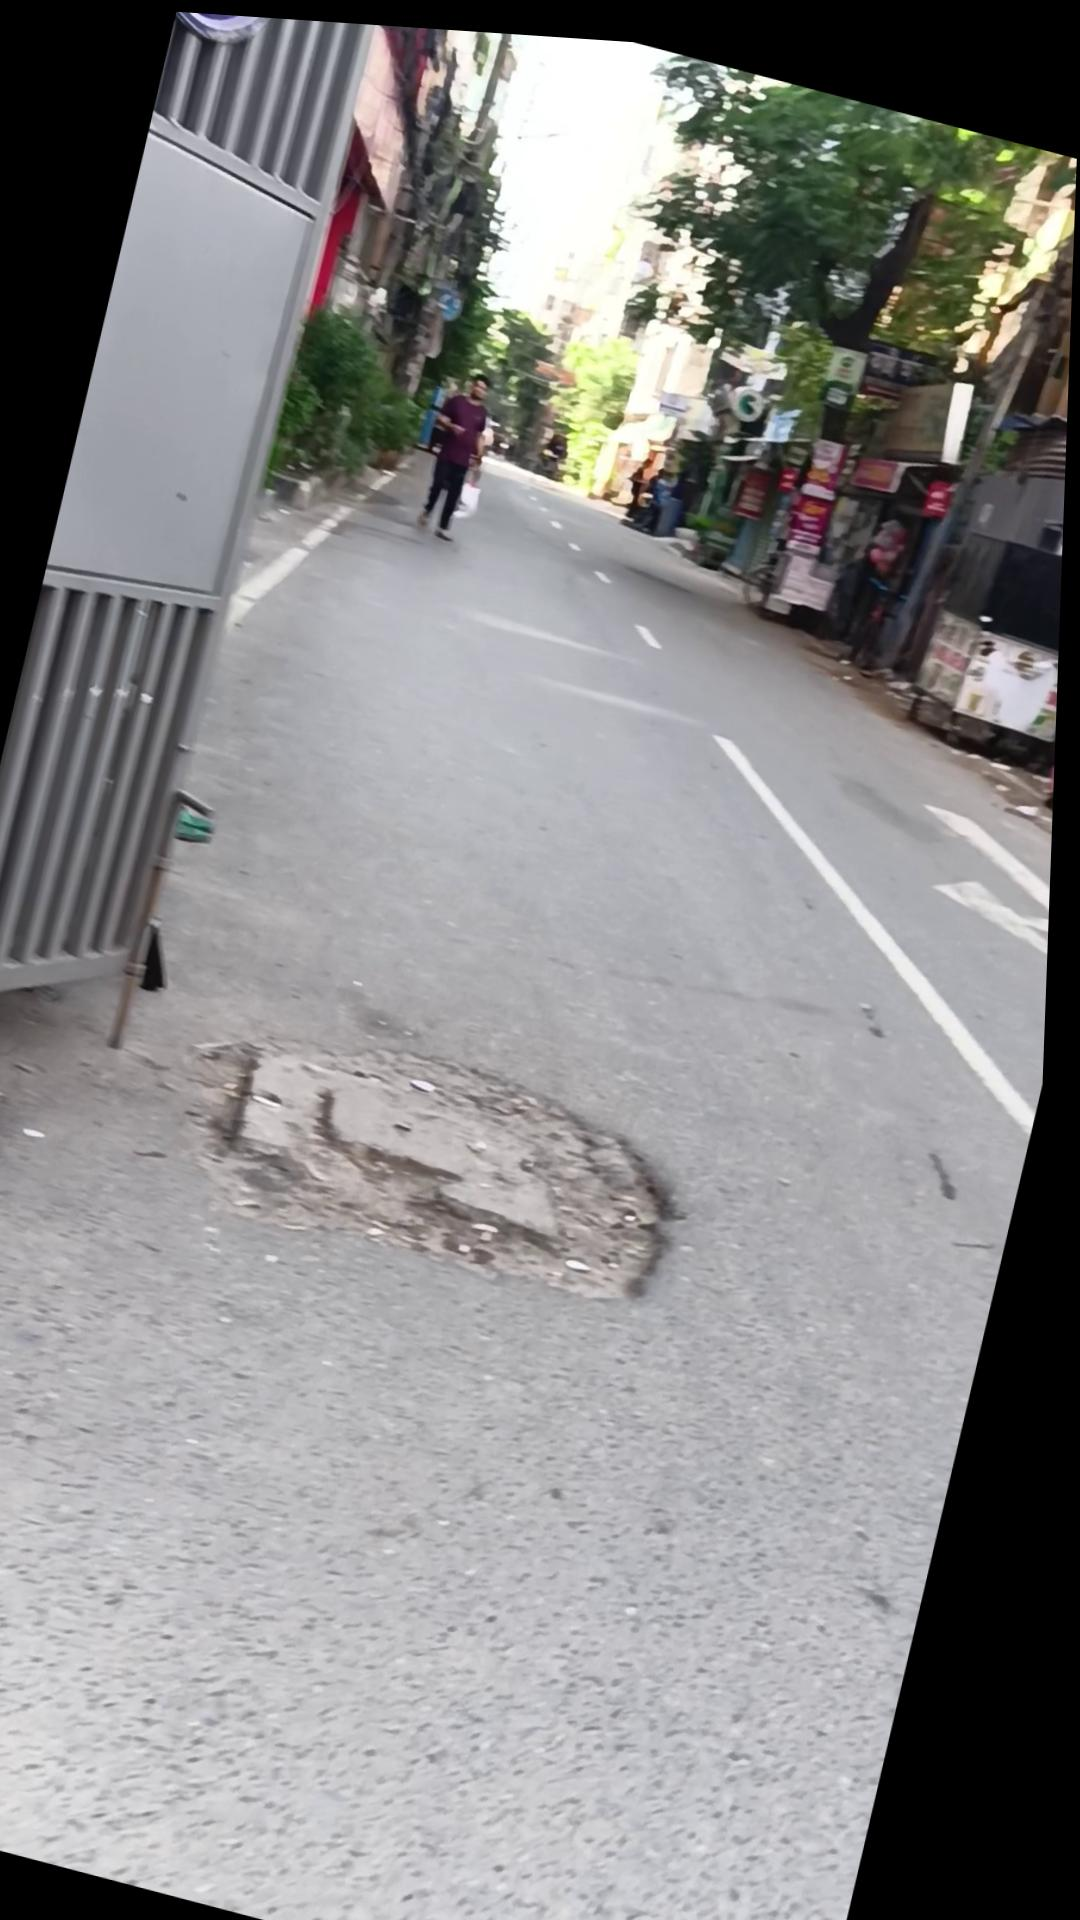Curb: (411, 356, 505, 539)
Dog: (865, 210, 1075, 692)
Downstairs: (161, 980, 720, 1319)
Fallen-tree: (367, 375, 434, 472), (679, 492, 746, 564), (679, 498, 721, 554)
Light-pole: (568, 42, 1052, 651)
